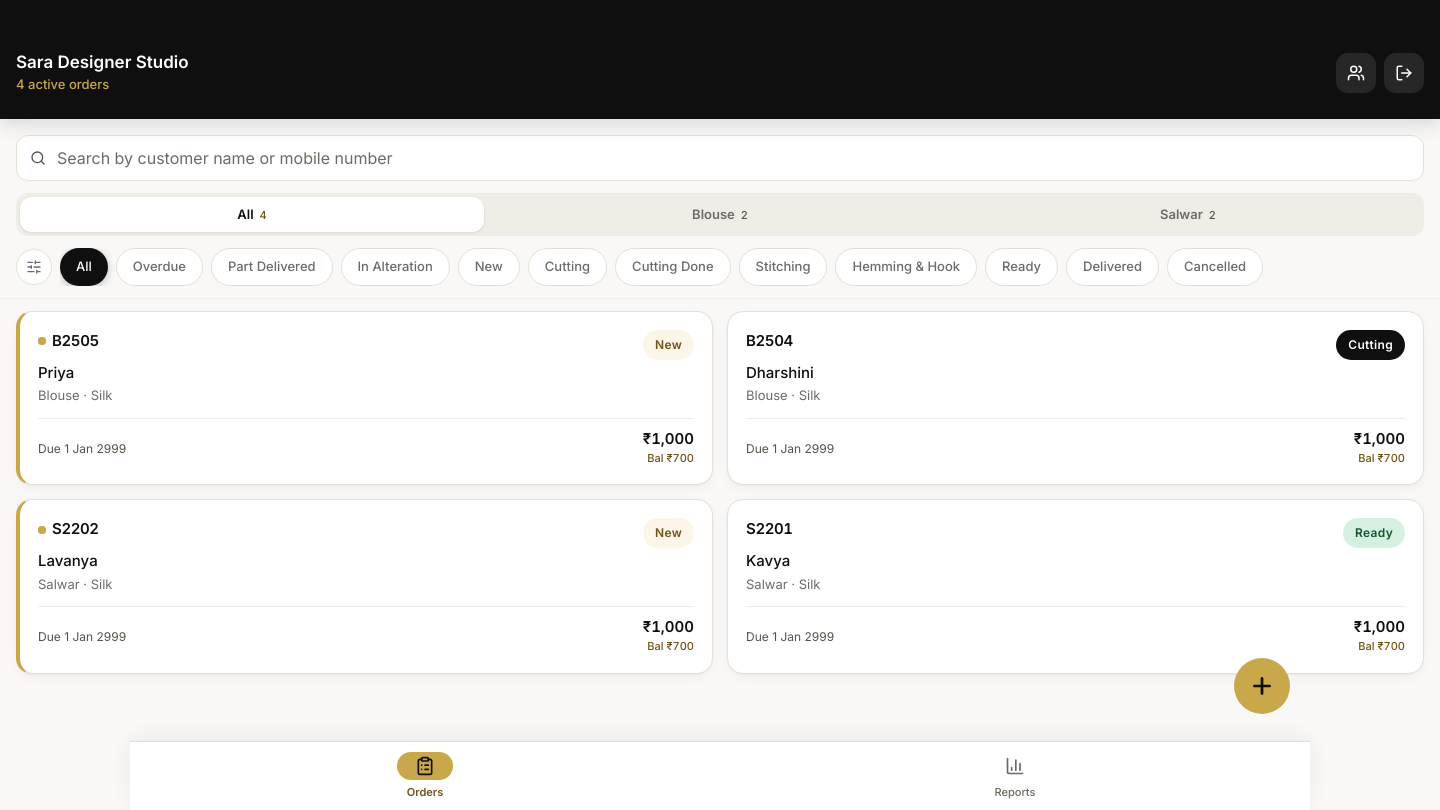
OrdersBody › Blouse / Salwar tabs › composes with the status chips
Click the tab "Blouse2": click(720, 215) [488,197,952,232]
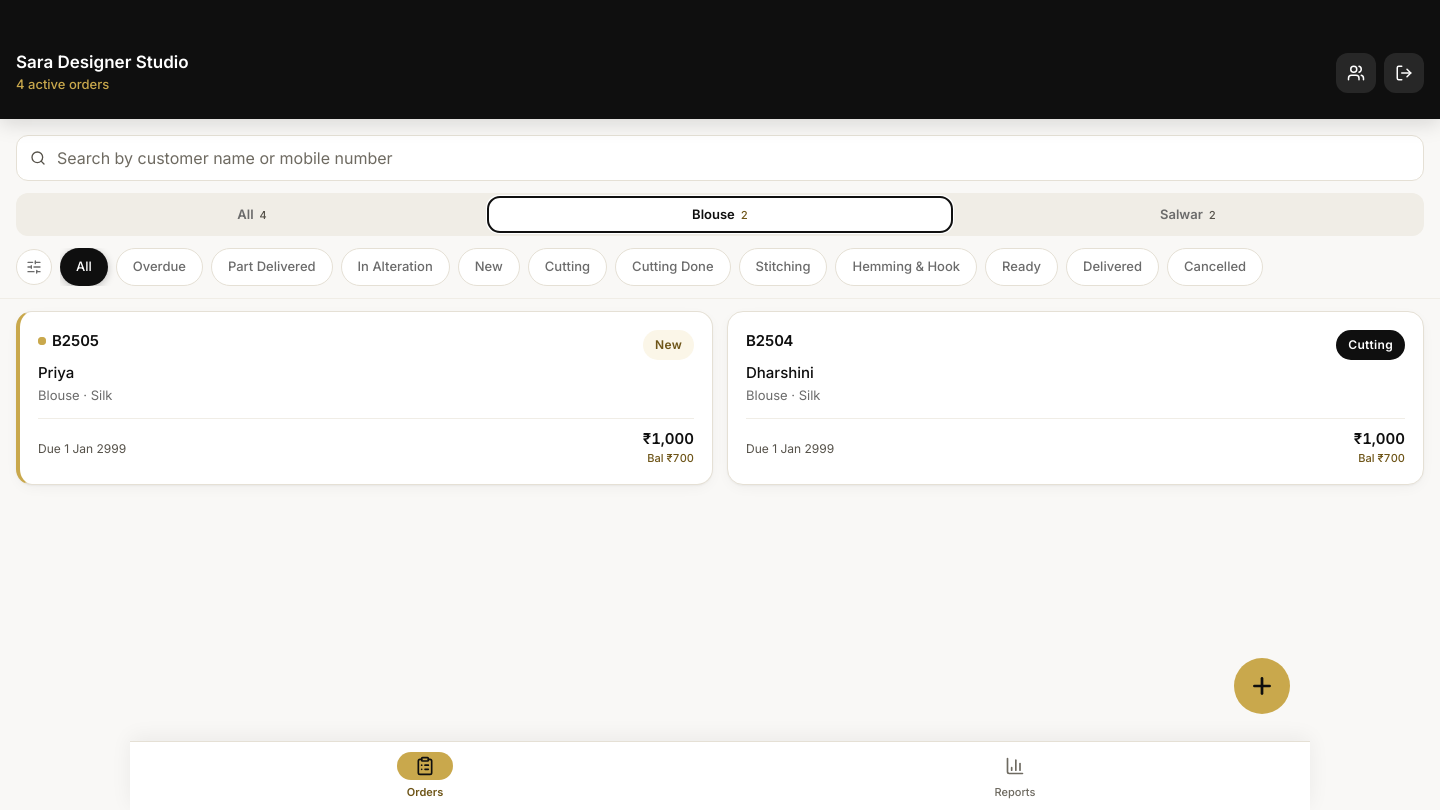
Click the button "New": click(489, 267) [458,248,520,286]
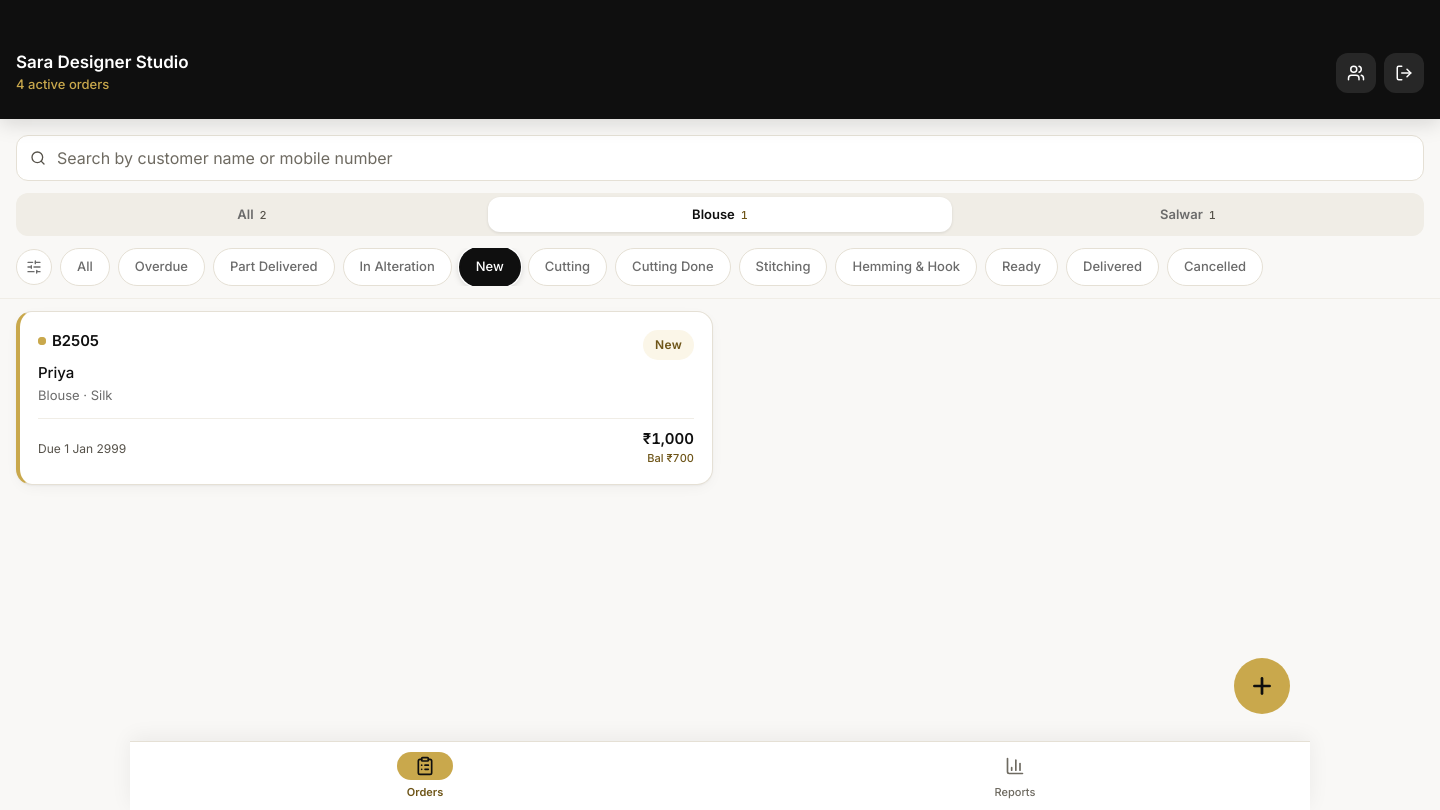
Expected: the text "B2505" is shown, [52,330,99,352]
Now the button "B2504" is gone
